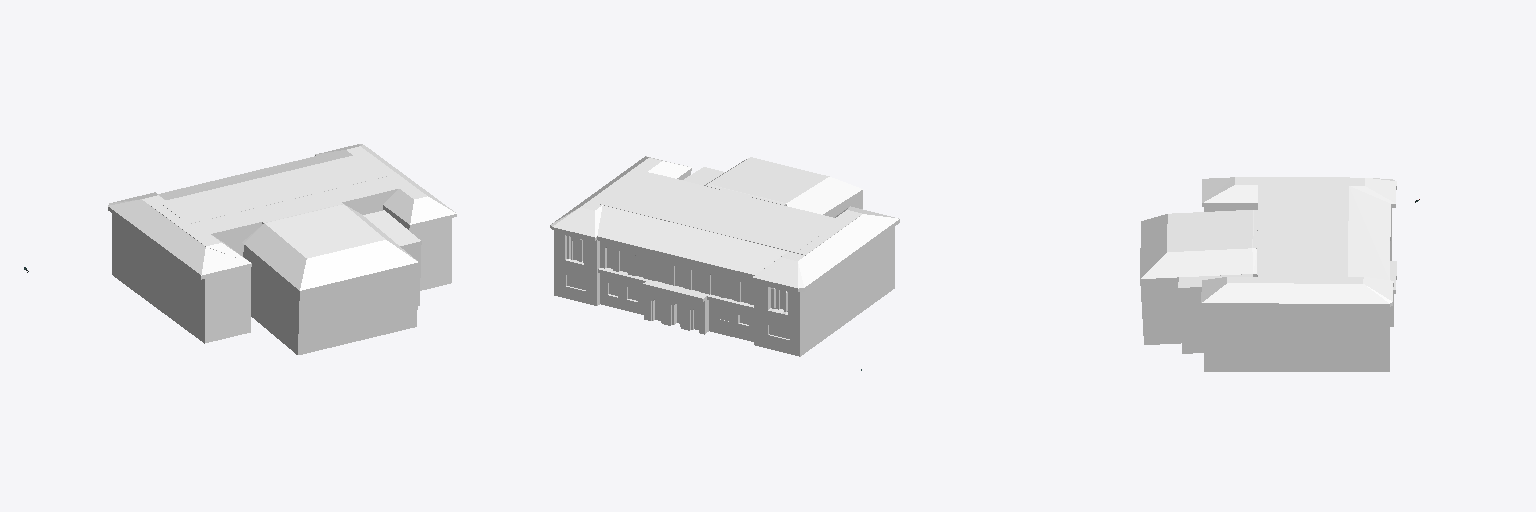
The picture shows the model from 3 angles: view 1: azimuth 30°, elevation 25°; view 2: azimuth 150°, elevation 25°; view 3: azimuth 270°, elevation 25°; orthographic projection.
Visible parts, largest first — view 1: instance_0_ID510; view 2: instance_0_ID510; view 3: instance_0_ID510.
Boxes of the visible parts, x1,y1,x2,y2 form: instance_0_ID510: [108, 144, 456, 354]; instance_0_ID510: [550, 156, 899, 356]; instance_0_ID510: [1140, 177, 1396, 371].
Size of the model in its own units: 20.6 by 5.31 by 15.34.